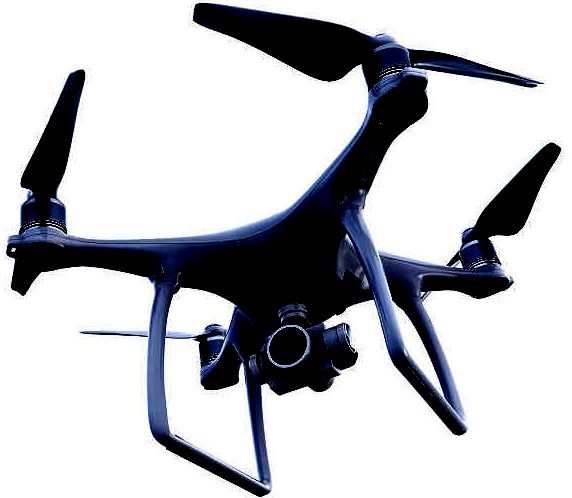Drone: (6, 0, 565, 490)
